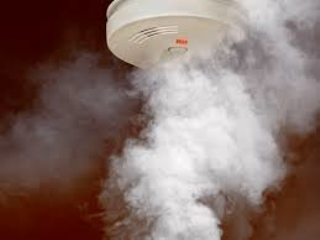smoke: (110, 67, 291, 234)
